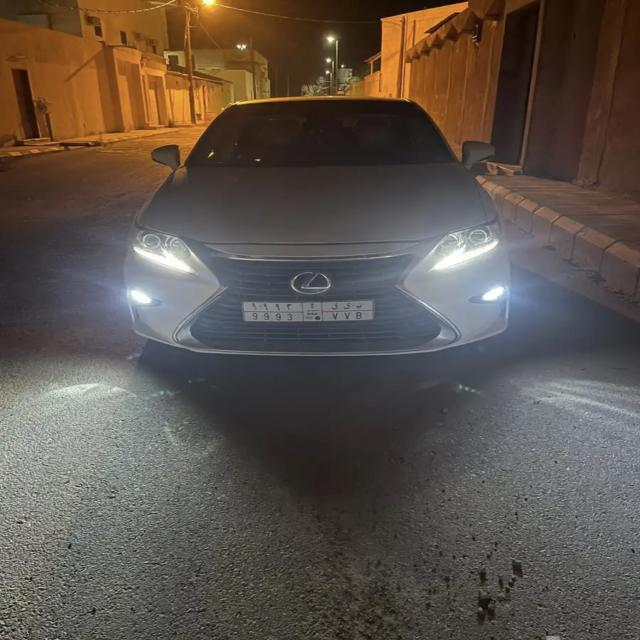license_plate: (242, 302, 375, 322)
